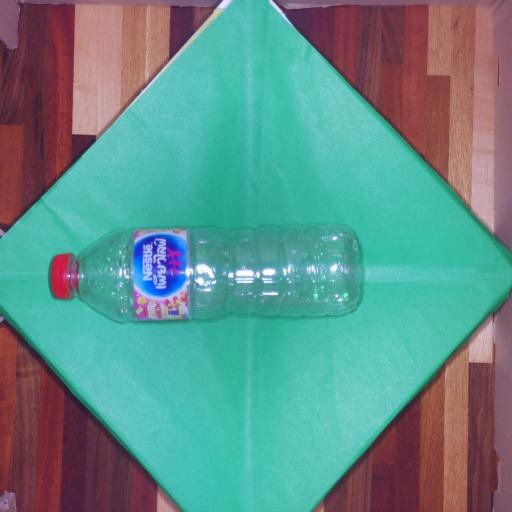bottle: (52, 226, 359, 321)
